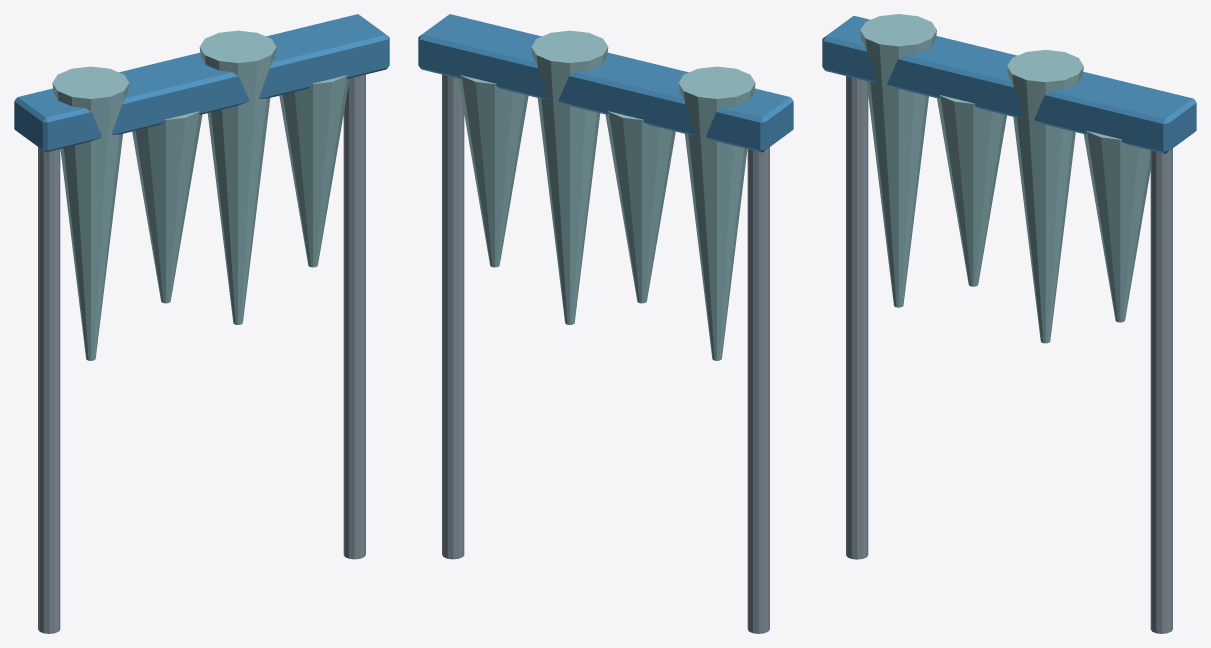
The model's file is icicles.glb.
The picture shows the model from 3 angles, left to right: view 1: azimuth 30°, elevation 25°; view 2: azimuth 150°, elevation 25°; view 3: azimuth 330°, elevation 25°; orthographic projection.
Parts seen in each view (by area): view 1: Base, Target0, Target2, Target3, Target1; view 2: Base, Target0, Target2, Target3, Target1; view 3: Base, Target0, Target2, Target1, Target3.
Boxes of the visible parts, x1,y1,x2,y2 form: Base: [14, 14, 389, 633]; Target0: [52, 66, 129, 360]; Target2: [199, 30, 276, 324]; Target3: [279, 75, 349, 267]; Target1: [132, 111, 202, 303]; Base: [418, 14, 793, 633]; Target0: [678, 66, 755, 360]; Target2: [531, 30, 608, 324]; Target3: [458, 75, 528, 267]; Target1: [605, 111, 675, 303]; Base: [822, 16, 1196, 633]; Target0: [860, 14, 936, 307]; Target2: [1007, 50, 1083, 343]; Target1: [937, 95, 1006, 286]; Target3: [1083, 131, 1150, 322].
Size of the model in its own units: 1.25 by 1.84 by 0.24.
